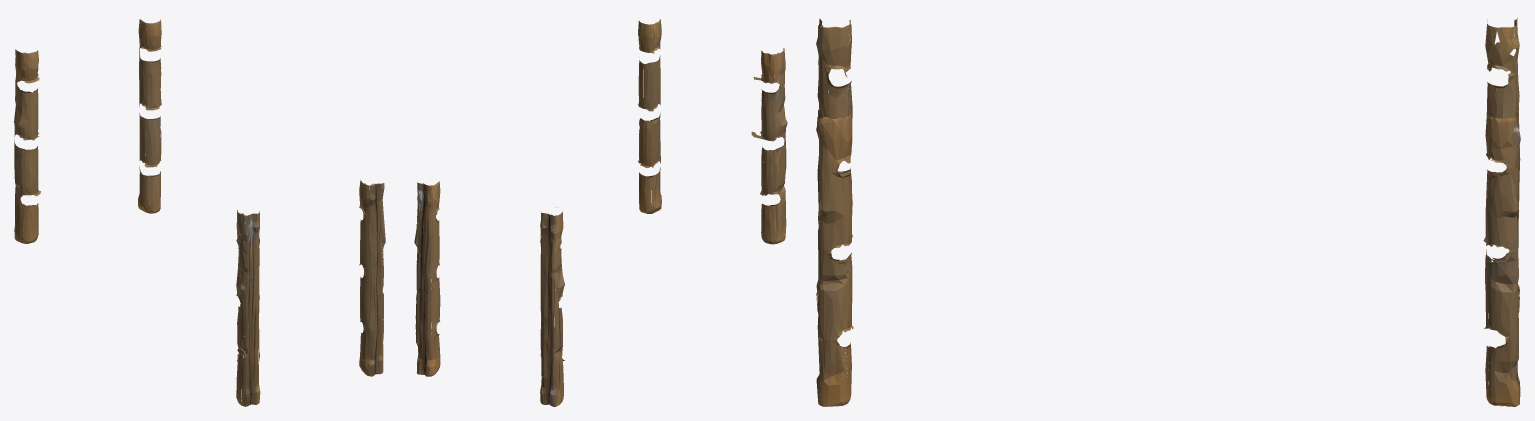
File: fence.glb
The picture shows the model from 3 angles, left to right: view 1: azimuth 30°, elevation 25°; view 2: azimuth 150°, elevation 25°; view 3: azimuth 270°, elevation 25°; orthographic projection. The views are drawn at different scales.
Parts seen in each view (by area): view 1: textured_mesh.obj.003; view 2: textured_mesh.obj.003; view 3: textured_mesh.obj.003.
Part boxes in pixels (x1=…): textured_mesh.obj.003: x1=14, y1=19, x2=385, y2=406; textured_mesh.obj.003: x1=414, y1=19, x2=787, y2=406; textured_mesh.obj.003: x1=816, y1=17, x2=1520, y2=406.
Size of the model in its own units: 0.7171 by 0.9096 by 1.99.
1 material, 1 textured.
